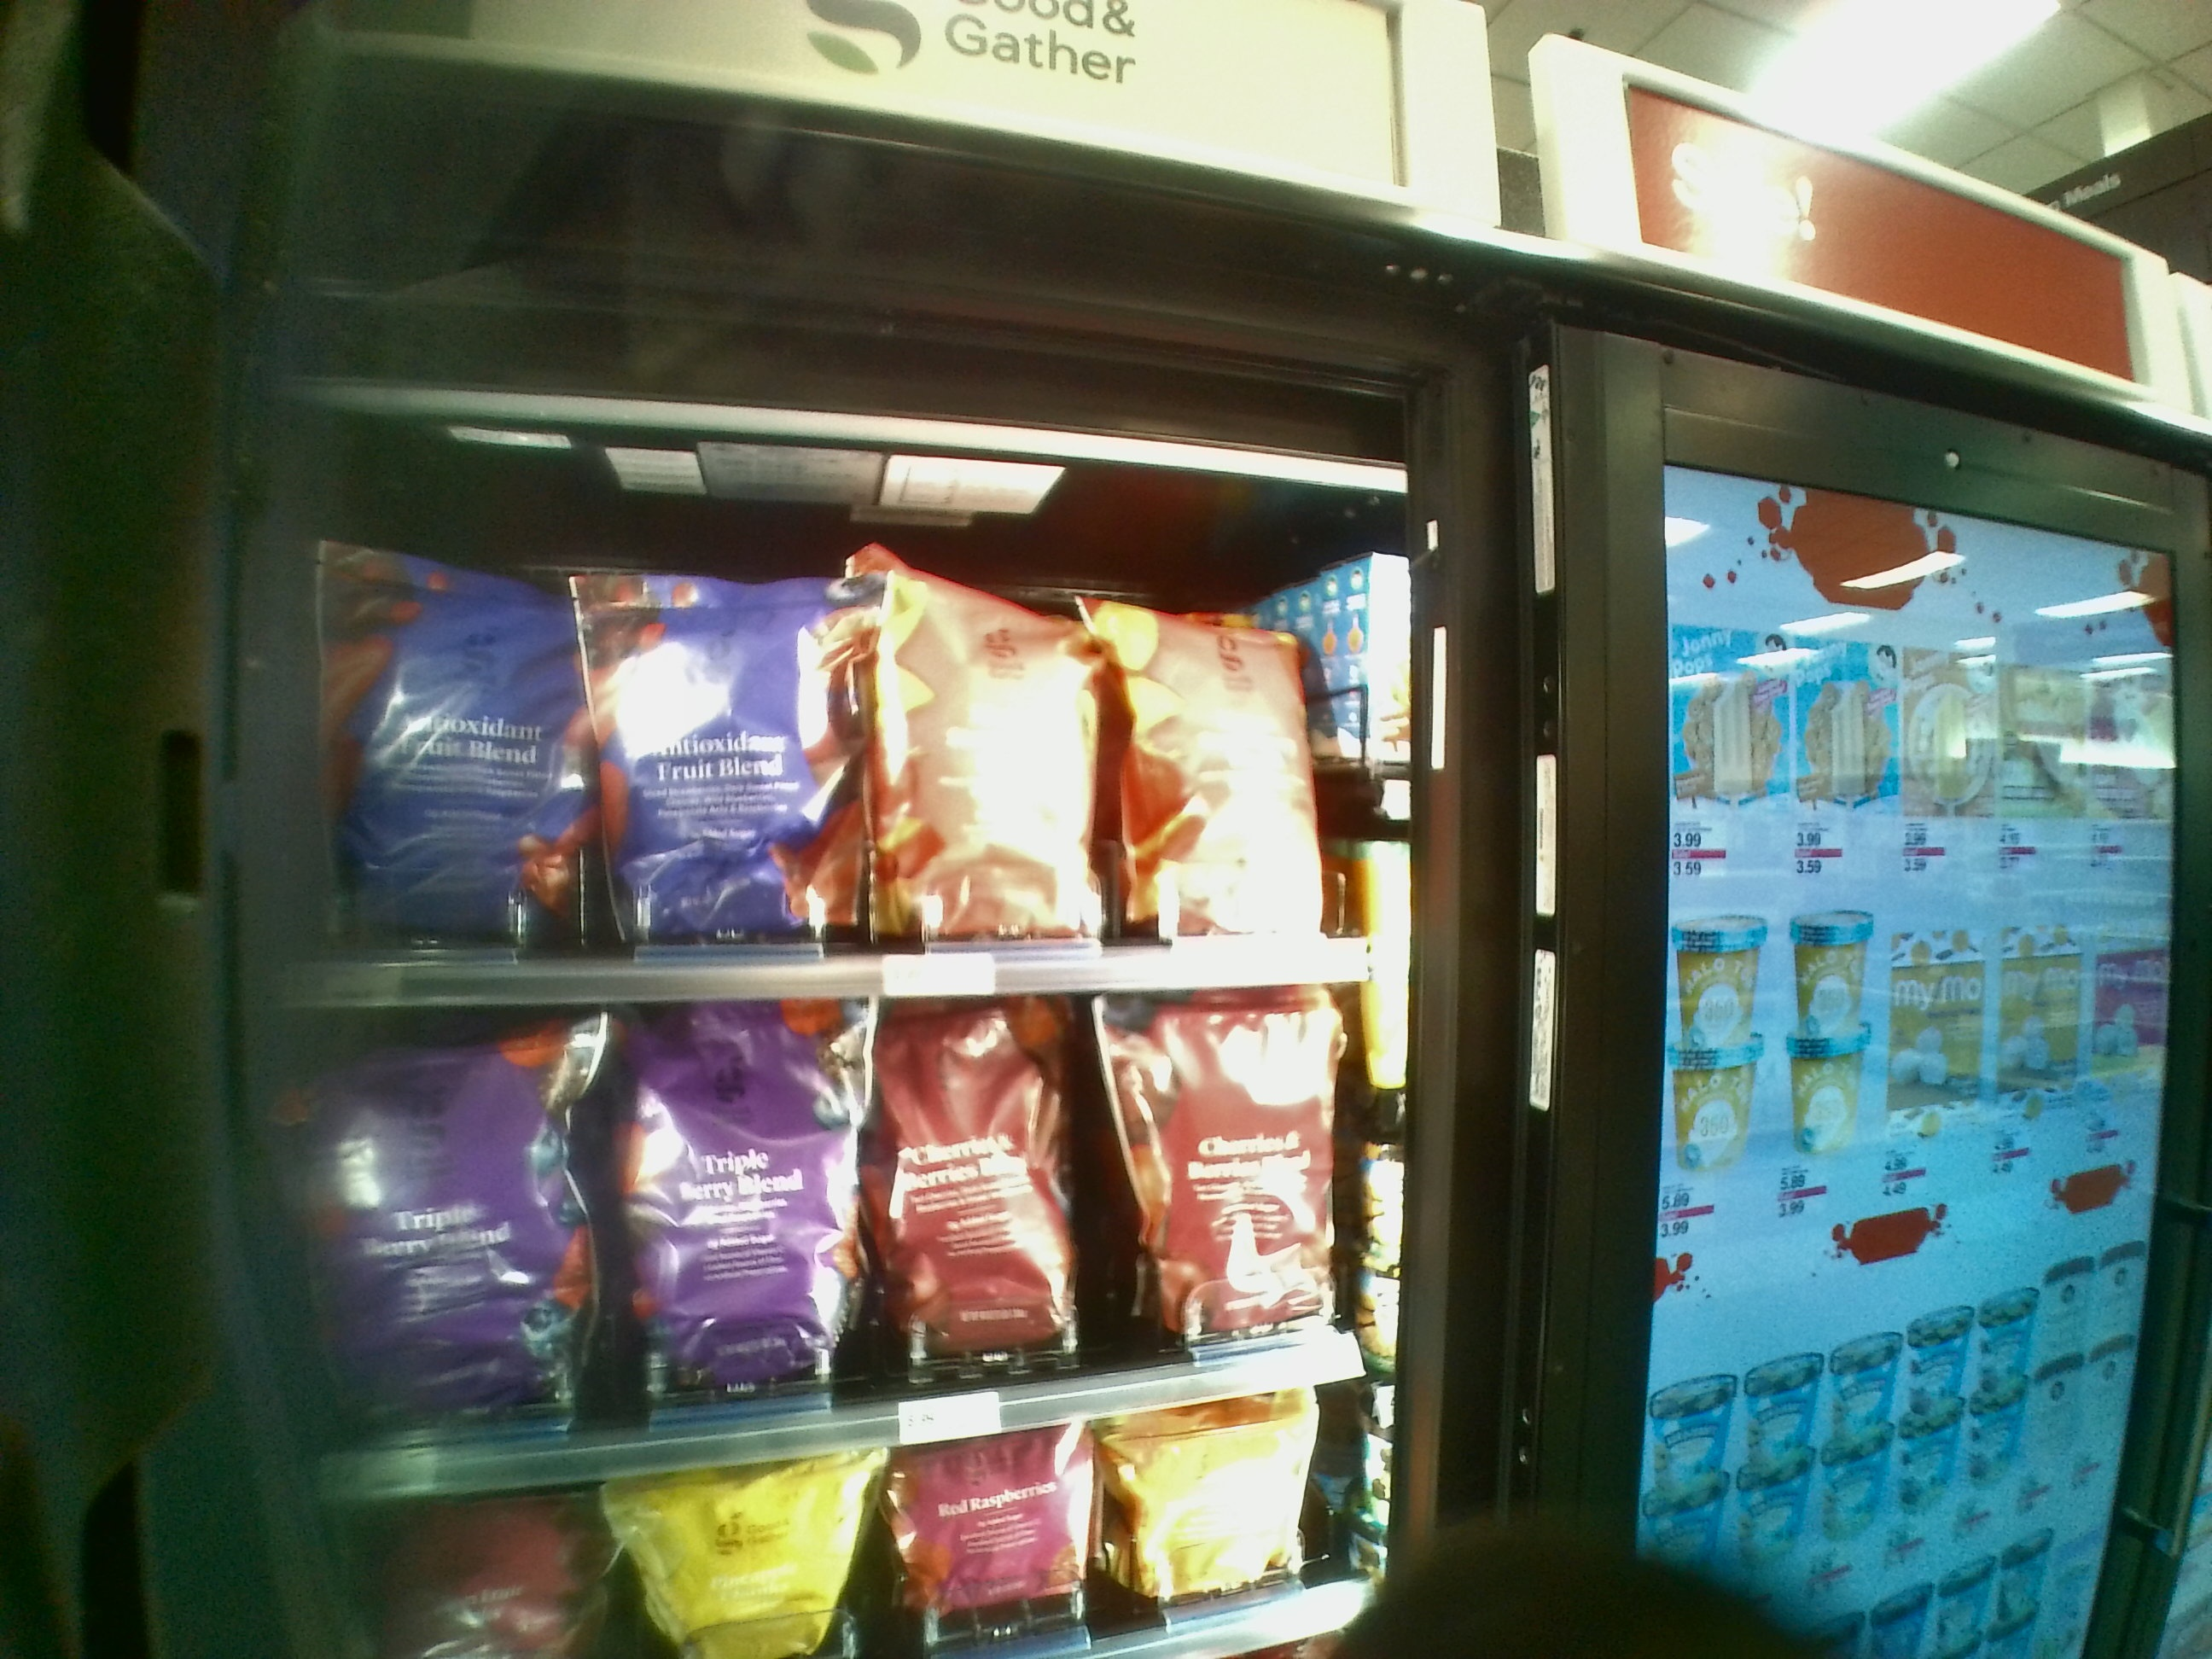shelf: (293, 429, 1411, 997), (319, 1004, 1406, 1488)
